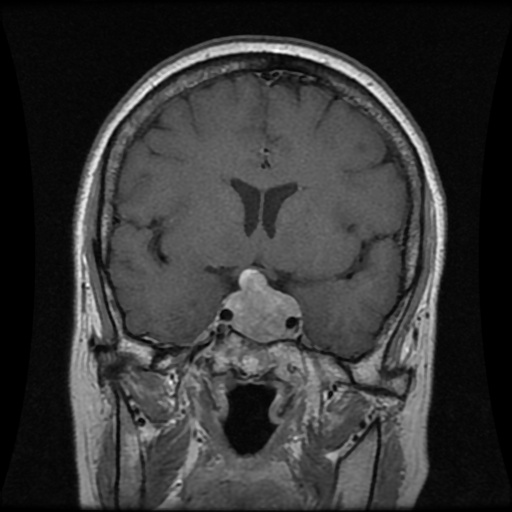pituitary: (223, 271, 299, 339)
